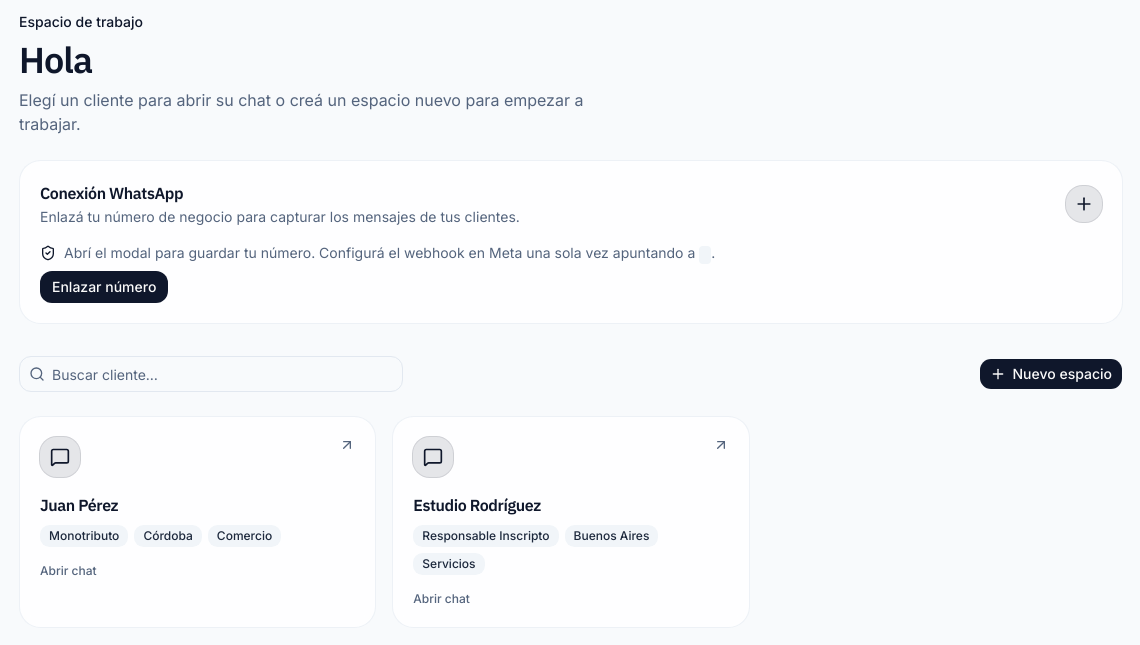
Test case: ClientGrid › filtra la lista por nombre mientras se escribe
The image size is (1140, 645).
Type "juan" into the search field labelled "Buscar cliente".
click(211, 374); type("juan")  # box [19,356,403,392]
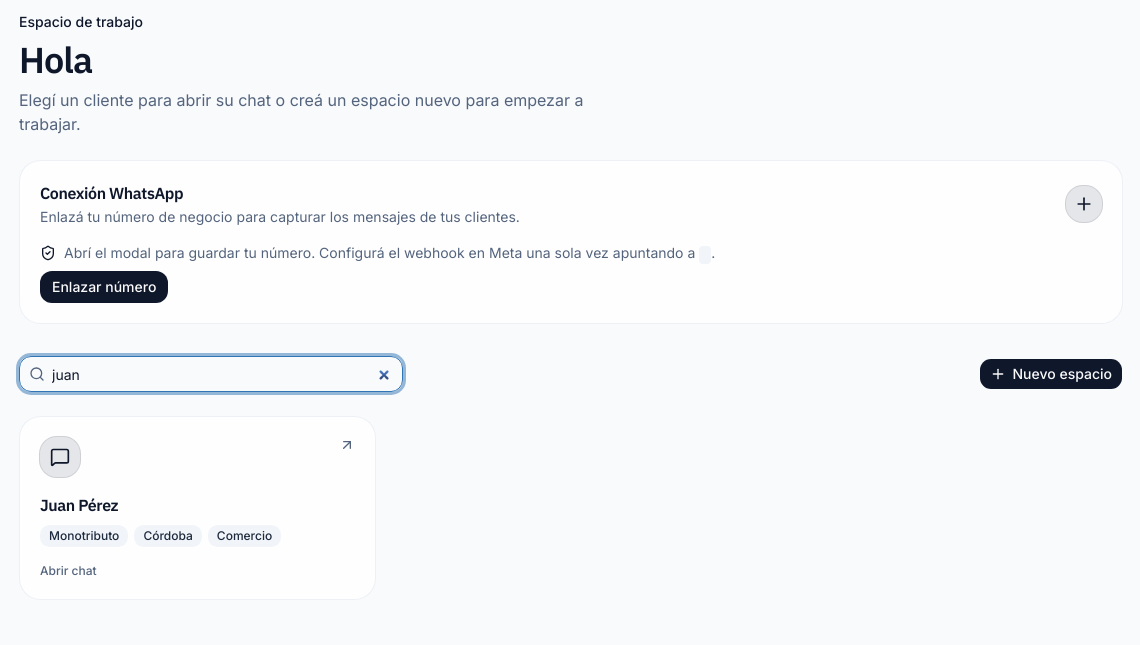
Expected: the heading "Juan Pérez" is shown, [40,495,118,515]
Now the link "Estudio Rodríguez" is gone
